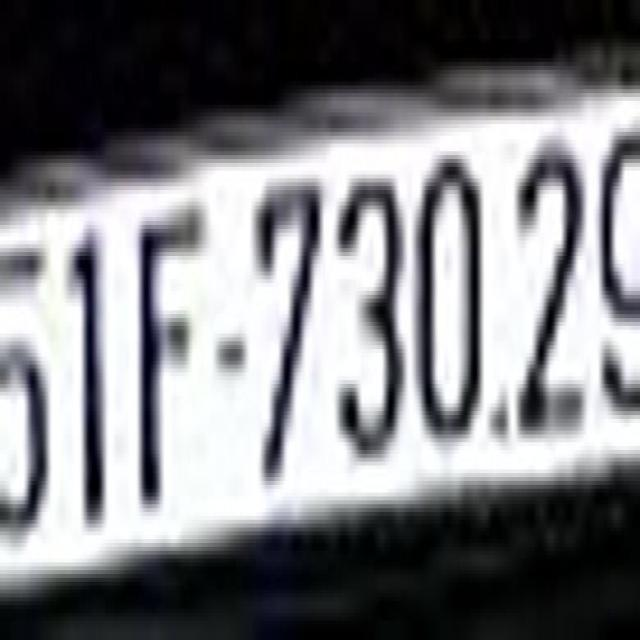0: (413, 136, 488, 438)
1: (68, 217, 112, 547)
2: (511, 124, 586, 450)
3: (338, 159, 402, 465)
5: (1, 229, 53, 535)
7: (255, 155, 326, 493)
9: (599, 89, 640, 419)
F: (136, 190, 205, 512)
